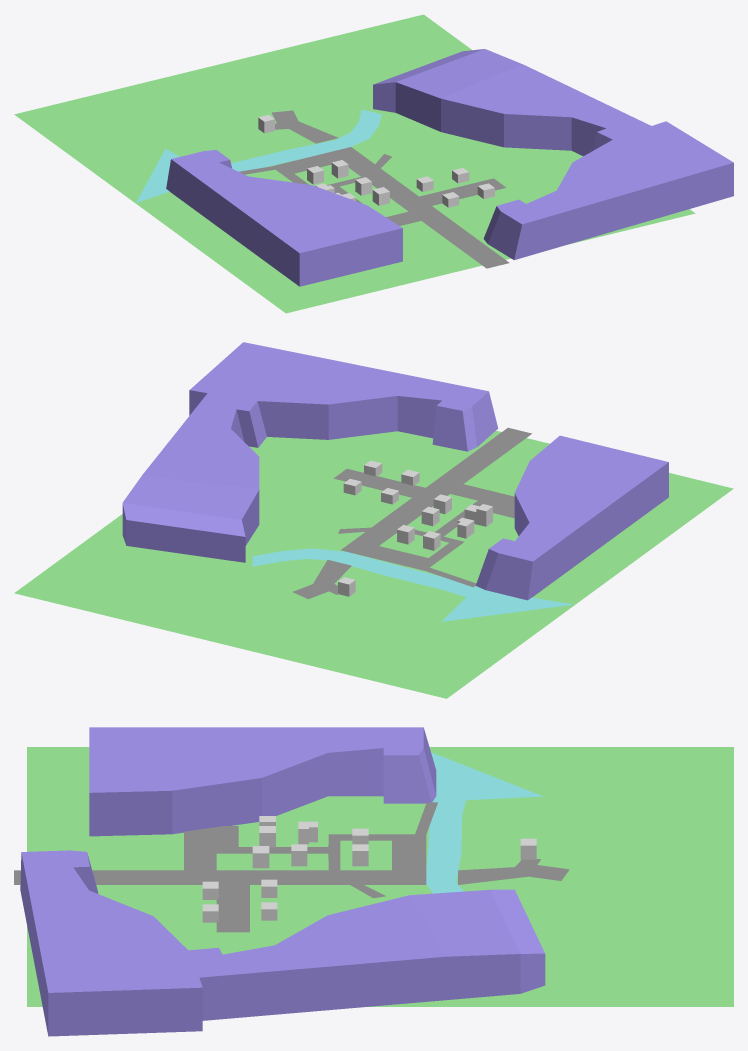
Rendered from blk_v01.fbx.
The picture shows the model from 3 angles, top to bottom: view 1: azimuth 30°, elevation 25°; view 2: azimuth 150°, elevation 25°; view 3: azimuth 270°, elevation 25°; orthographic projection. The views are drawn at different scales.
Visible parts, largest first — view 1: Plane001, Box014, Box012, Box013, Plane003, Plane002; view 2: Plane001, Box014, Box012, Box013, Plane003, Plane002; view 3: Plane001, Box013, Box012, Box014, Plane003, Plane002, Box004.
Part boxes in pixels (x1=…): Plane001: x1=14, y1=14, x2=695, y2=313; Box014: x1=483, y1=121, x2=733, y2=260; Box012: x1=166, y1=150, x2=402, y2=286; Box013: x1=373, y1=49, x2=654, y2=156; Plane003: x1=239, y1=110, x2=509, y2=268; Plane002: x1=136, y1=109, x2=381, y2=202; Plane001: x1=14, y1=430, x2=733, y2=698; Box014: x1=189, y1=342, x2=498, y2=451; Box012: x1=476, y1=435, x2=668, y2=600; Box013: x1=122, y1=391, x2=266, y2=562; Plane003: x1=293, y1=427, x2=531, y2=599; Plane002: x1=252, y1=548, x2=573, y2=621; Plane001: x1=27, y1=747, x2=733, y2=1006; Box013: x1=183, y1=889, x2=545, y2=1020; Box012: x1=89, y1=727, x2=436, y2=836; Box014: x1=20, y1=850, x2=202, y2=1036; Plane003: x1=14, y1=802, x2=569, y2=932; Plane002: x1=426, y1=752, x2=543, y2=893; Box004: x1=259, y1=816, x2=275, y2=847.
Size of the model in its own units: 20559 by 1442 by 21612.
